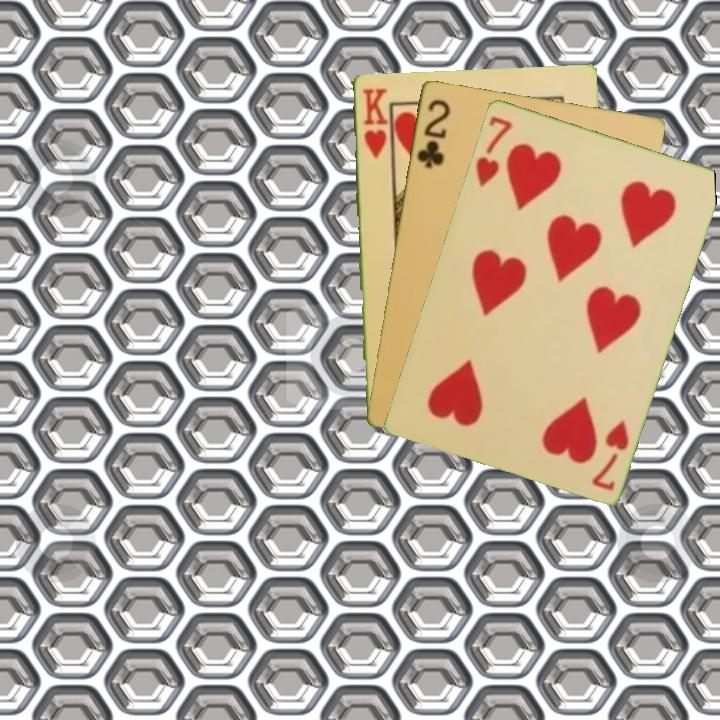2c: (413, 95, 453, 171)
7h: (588, 415, 632, 494), (471, 112, 515, 189)
Kh: (359, 84, 389, 161)
